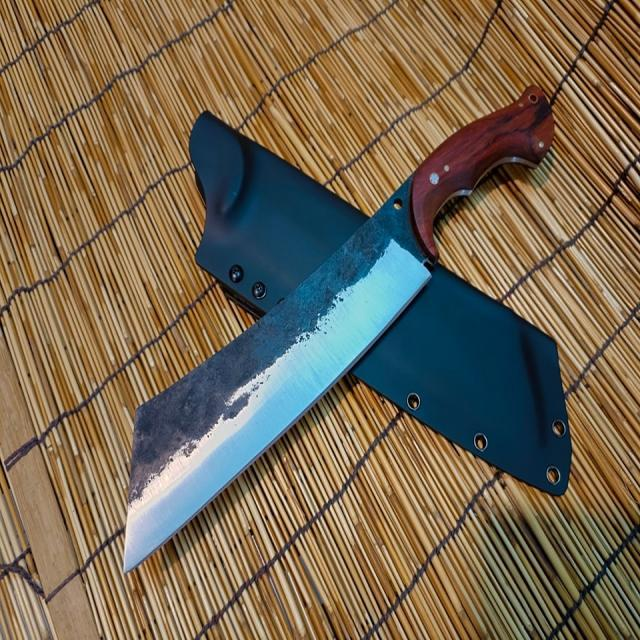eto: (112, 75, 575, 593)
